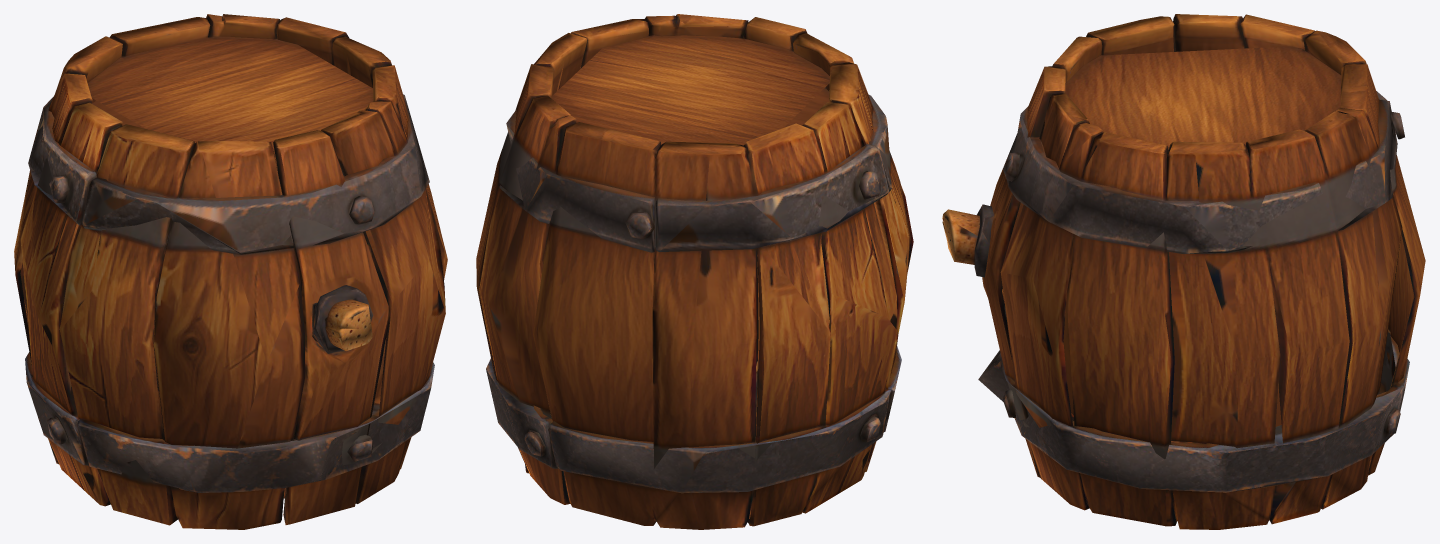
File: rum-barrel-v1-lod.glb
3 views of the same model, side by side, from view 1: azimuth 30°, elevation 25°; view 2: azimuth 150°, elevation 25°; view 3: azimuth 270°, elevation 25° (orthographic).
Parts seen in each view (by area): view 1: tripo_node_5c7b29fd-e32b-4ff8-87a9-f045bb61ca9a; view 2: tripo_node_5c7b29fd-e32b-4ff8-87a9-f045bb61ca9a; view 3: tripo_node_5c7b29fd-e32b-4ff8-87a9-f045bb61ca9a.
Part boxes in pixels (x1,y1,x2,y2): tripo_node_5c7b29fd-e32b-4ff8-87a9-f045bb61ca9a: (14, 14, 447, 529); tripo_node_5c7b29fd-e32b-4ff8-87a9-f045bb61ca9a: (476, 14, 913, 529); tripo_node_5c7b29fd-e32b-4ff8-87a9-f045bb61ca9a: (942, 14, 1425, 529).
Size of the model in its own units: 0.9062 by 0.8618 by 0.9941.
Materials: 1 (1 with a texture image).
